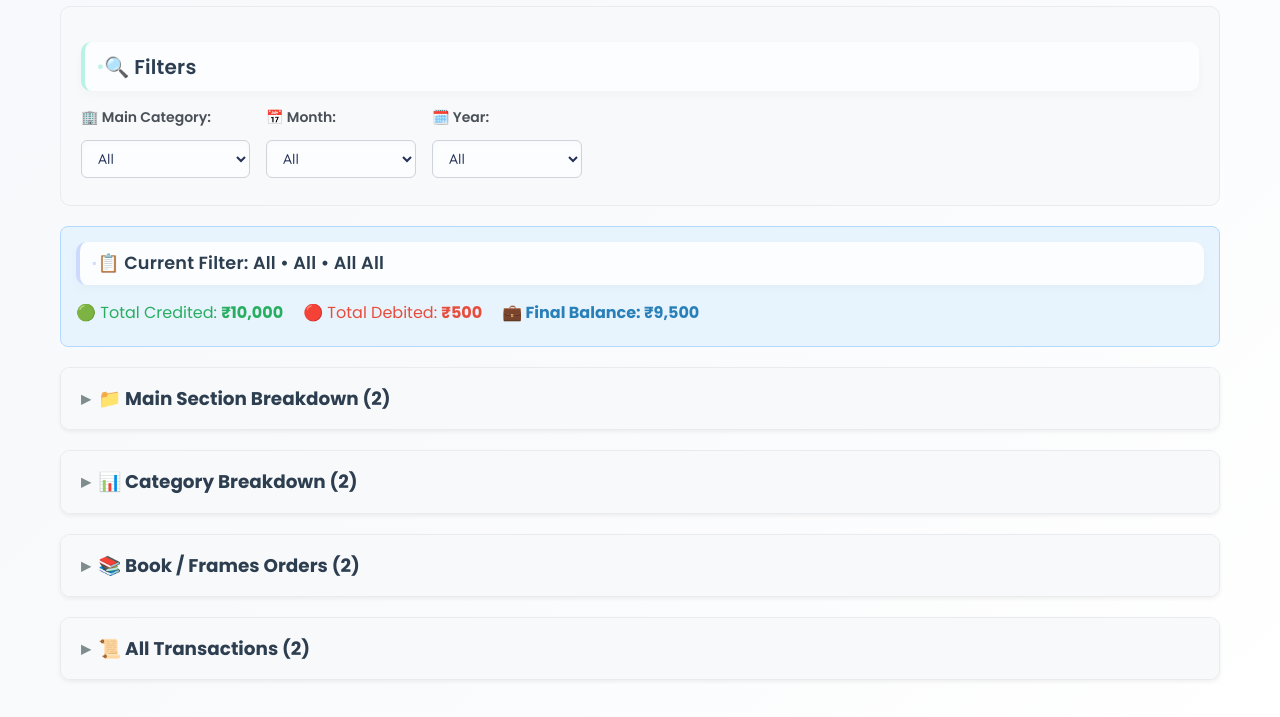
category breakdown groups by category once opened
(page scrolled)
Click the text "📊 Category Breakdown (2)".
click(228, 482)  # box [98, 467, 358, 497]
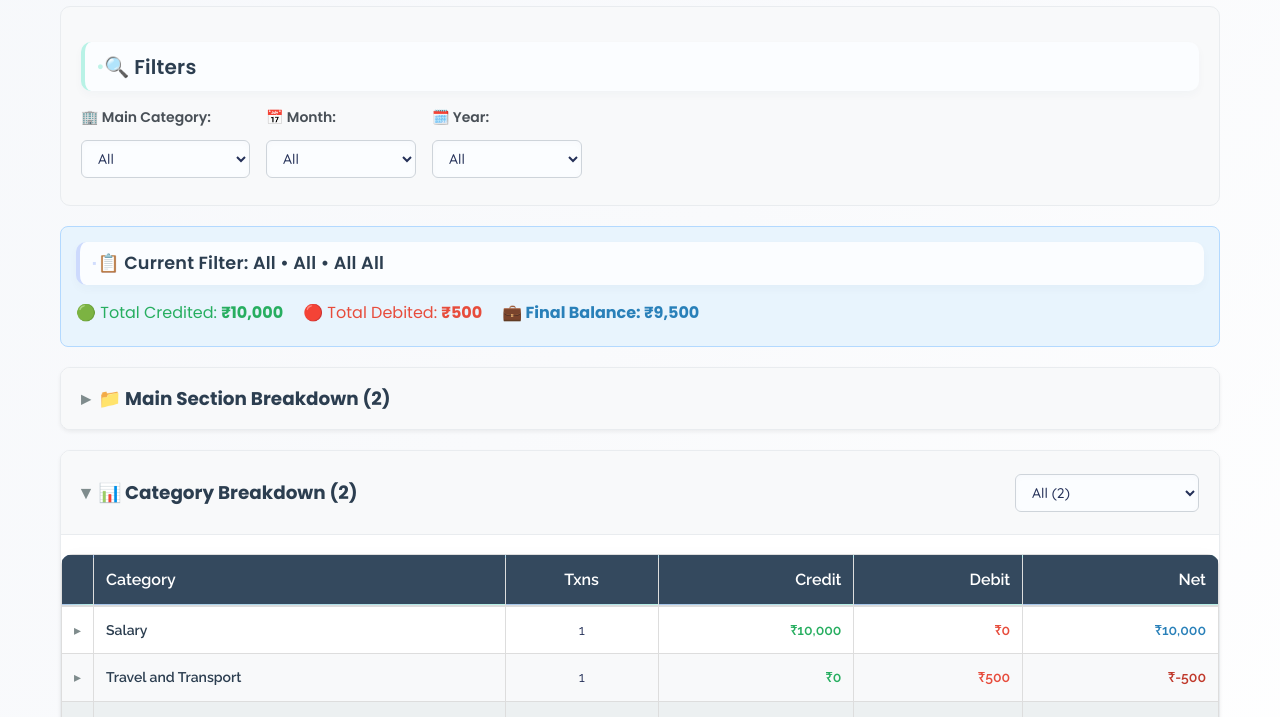
Expected: the cell "Travel and Transport" is shown, [94, 654, 505, 701]
Expected: the cell "Salary" is shown, [94, 606, 505, 654]
